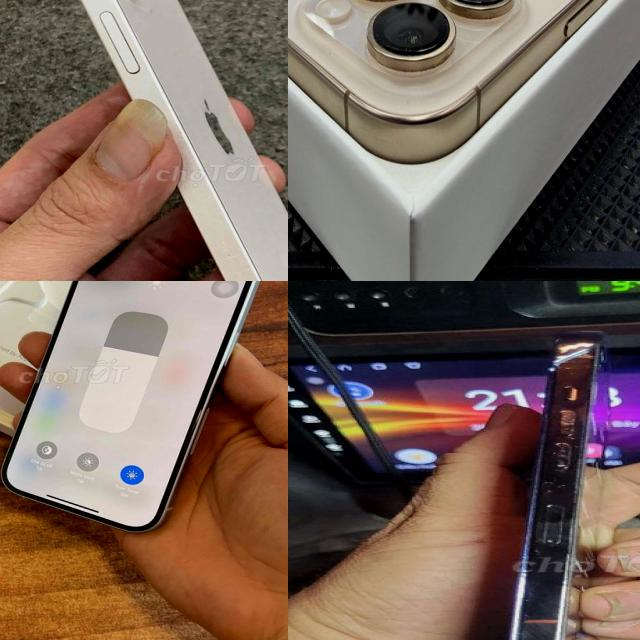scratch: (511, 428, 607, 522)
